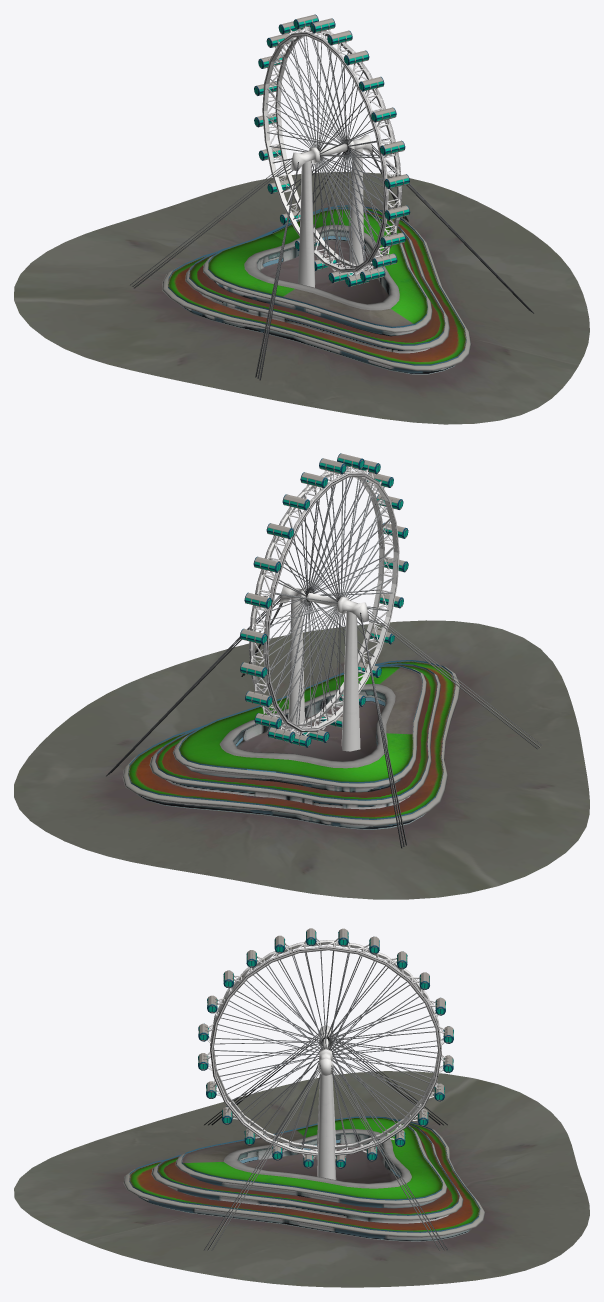
File: P017_SingaporeFlyer.fbx
3 renders of one model, top to bottom at view 1: azimuth 30°, elevation 25°; view 2: azimuth 150°, elevation 25°; view 3: azimuth 270°, elevation 25°, orthographic. The views are drawn at different scales.
Parts seen in each view (by area): view 1: P017_SingaporeFlyer, P017_SingaporeFlyer_Wheel; view 2: P017_SingaporeFlyer, P017_SingaporeFlyer_Wheel; view 3: P017_SingaporeFlyer, P017_SingaporeFlyer_Wheel.
Part boxes in pixels (box(x1,y1,x2,y2)): P017_SingaporeFlyer: box(14, 134, 589, 424); P017_SingaporeFlyer_Wheel: box(254, 14, 410, 286); P017_SingaporeFlyer: box(14, 583, 589, 899); P017_SingaporeFlyer_Wheel: box(240, 453, 408, 747); P017_SingaporeFlyer: box(14, 1025, 589, 1287); P017_SingaporeFlyer_Wheel: box(198, 928, 453, 1168).
Size of the model in its own units: 19228 by 10777 by 21614.
Materials: 1 (1 with a texture image).
